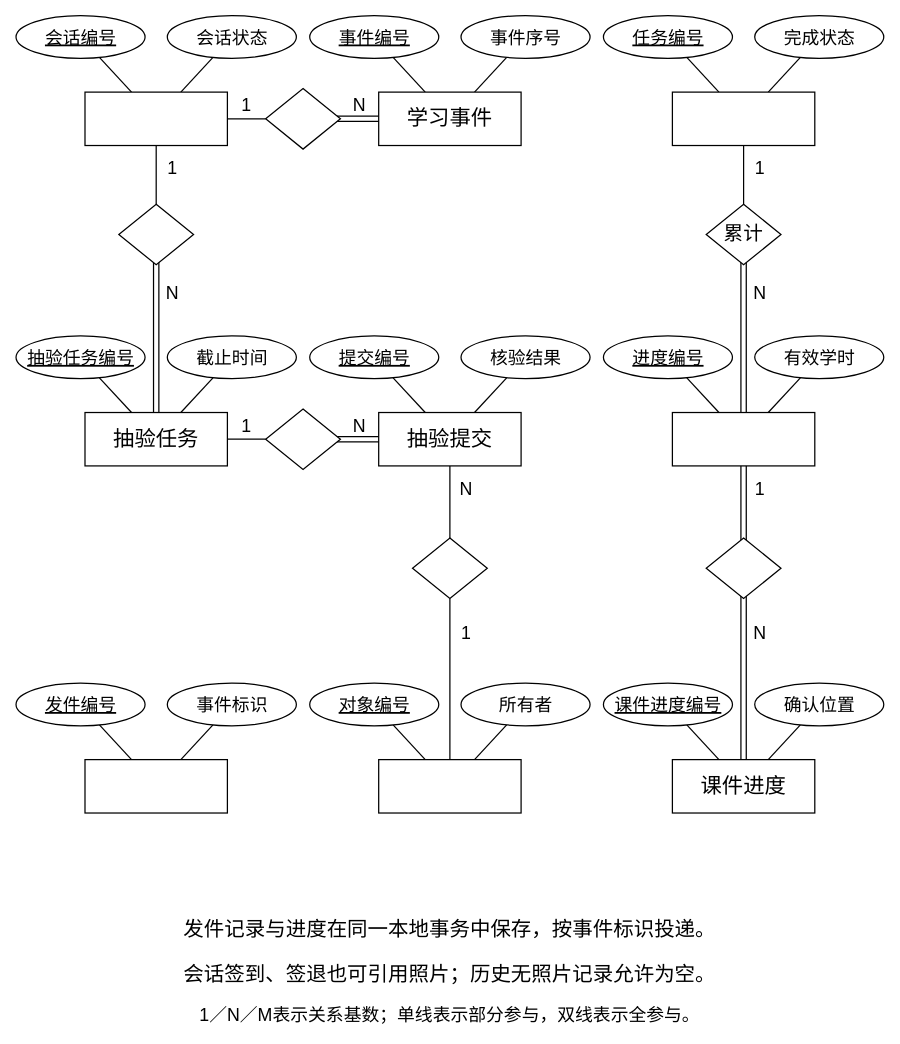
Some shapes in this 900 by 1044 pixel diagram are drawn without their labels. Here are the shapes that lost their labels. From the top down, the centre of each, then its label:
At pixel 156 118: "学习会话".
At pixel 303 118: "受理".
At pixel 743 118: "参训任务".
At pixel 156 234: "触发".
At pixel 303 439: "提交".
At pixel 743 438: "课程进度".
At pixel 449 568: "引用".
At pixel 743 568: "汇总".
At pixel 156 786: "发件记录".
At pixel 449 786: "照片对象".
